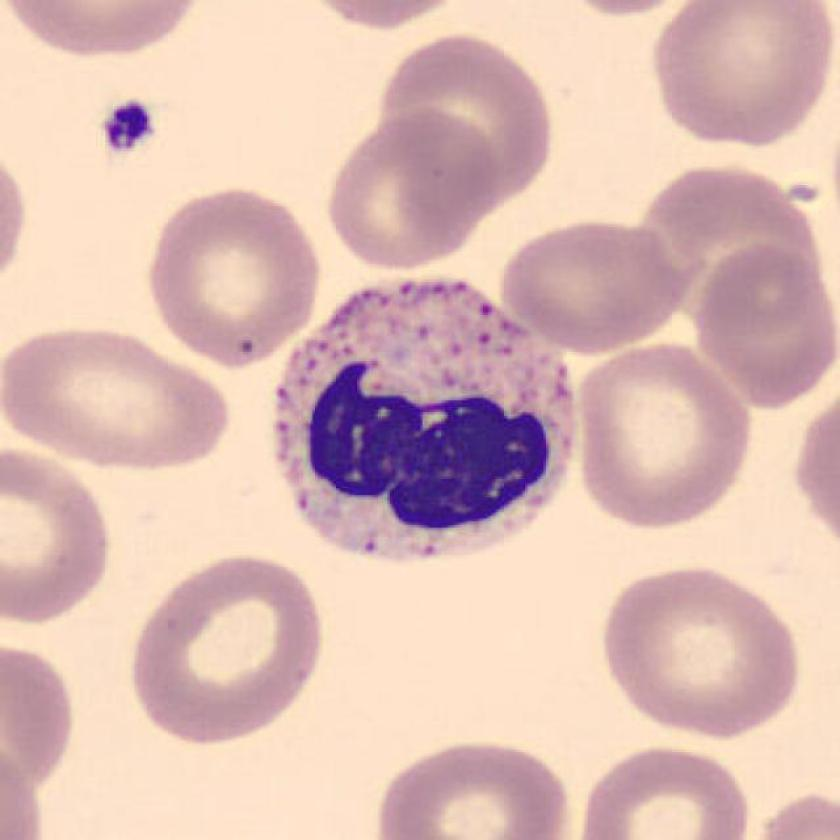neutrophil: (274, 281, 575, 558)
